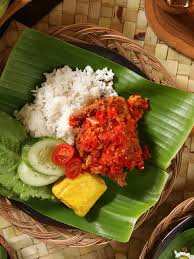ayam_geprek: (77, 101, 153, 182)
